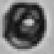correct: (1, 0, 50, 49)
